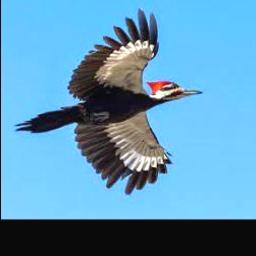Woodpecker: (14, 6, 203, 195)
